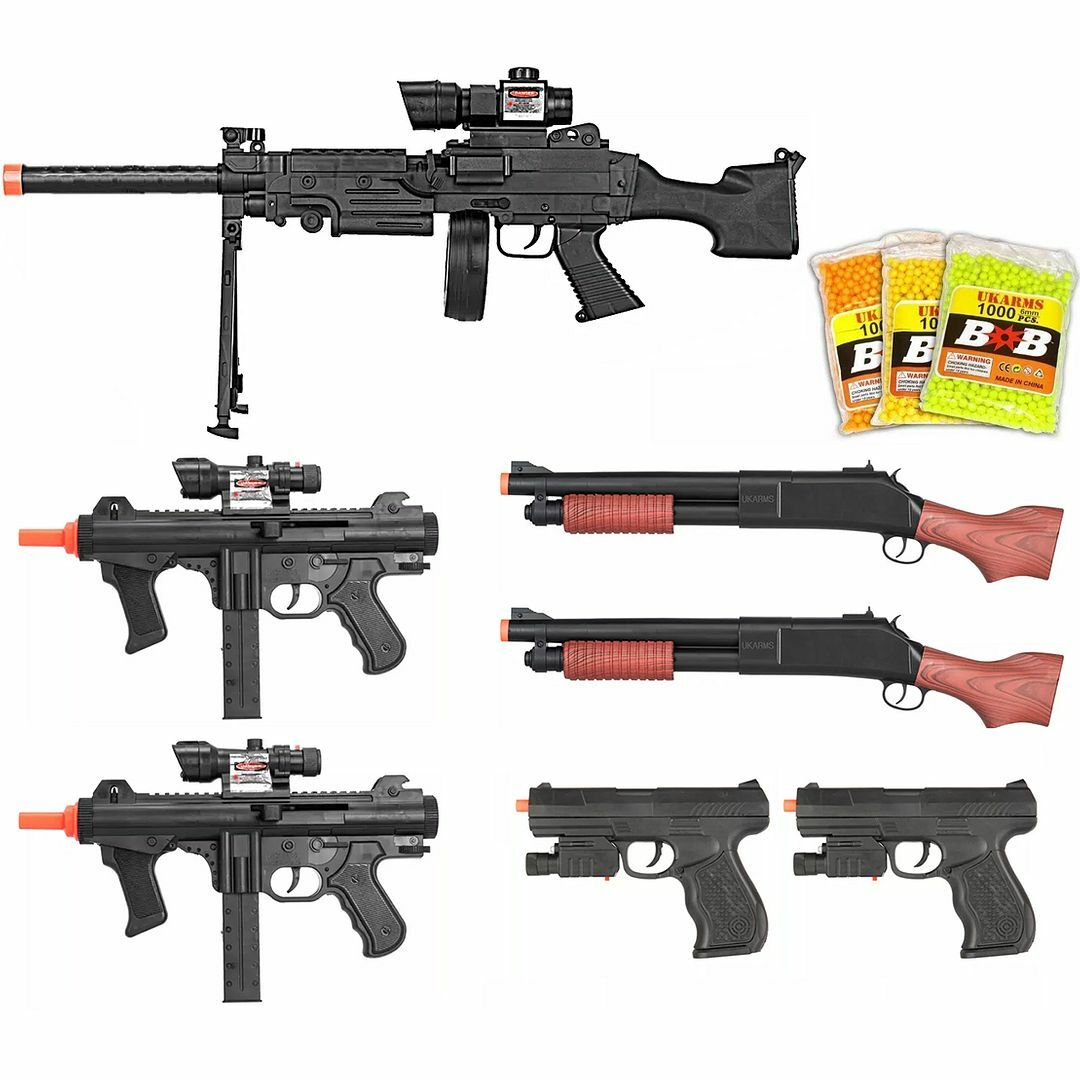Arma Falsa: (3, 69, 802, 374), (19, 732, 443, 1012), (14, 466, 454, 705), (497, 600, 1080, 751), (500, 443, 1080, 582), (782, 771, 1042, 969), (511, 780, 780, 968)
